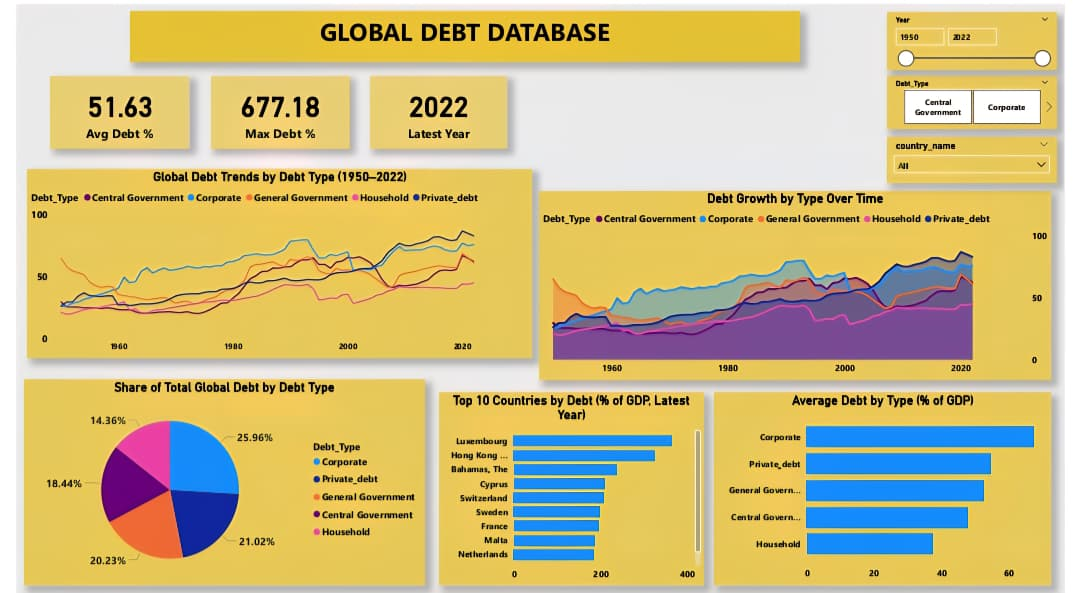

What the dashboard file says about the page in this screenshot:
{"tool":"powerbi","page":{"name":"Page 1","canvas":[1600,900],"ordinal":0},"visuals":[{"type":"lineChart","title":"Global Debt Trends by Debt Type (1950–2022)","fields":{"Category":["Global Debt.Year"],"Y":["Avg(Global Debt.Debt_Percentage)"],"Series":["Global Debt.Debt_Type"]},"box":[18.3,252.4,770.1,287.2],"z":0},{"type":"barChart","title":"Average Debt by Type (% of GDP)","fields":{"Category":["Global Debt.Debt_Type"],"Y":["Avg(Global Debt.Debt_Percentage)"]},"box":[1066.5,592.7,514,294.5],"z":1000},{"type":"barChart","title":"Top 10 Countries by Debt (% of GDP, Latest Year)","fields":{"Category":["Global Debt.country_name "],"Y":["Global Debt.Latest Avg Debt %"]},"box":[645.7,592.7,404.3,294.5],"z":2000},{"type":"areaChart","title":"Debt Growth by Type Over Time","fields":{"Category":["Global Debt.Year"],"Y":["Avg(Global Debt.Debt_Percentage)"],"Series":["Global Debt.Debt_Type"]},"box":[799.4,285.4,781.1,287.2],"z":3000},{"type":"textbox","box":[173.8,11,1022.6,76.8],"z":4000},{"type":"pieChart","title":"Share of Total Global Debt by Debt Type","fields":{"Category":["Global Debt.Debt_Type"],"Y":["Avg(Global Debt.Debt_Percentage)"]},"box":[12.8,572.6,611,314.6],"z":5000},{"type":"card","fields":{"Values":["Global Debt.Avg Debt %"]},"box":[53,109.8,212.2,109.8],"z":6000},{"type":"card","fields":{"Values":["Global Debt.Max Debt %"]},"box":[298.2,109.8,210.4,109.8],"z":7000},{"type":"card","fields":{"Values":["Global Debt.Latest Year"]},"box":[541.5,109.8,208.5,109.8],"z":8000},{"type":"slicer","fields":{"Values":["Global Debt.Year"]},"box":[1330,13,258,87],"z":9000},{"type":"slicer","fields":{"Values":["Global Debt.Debt_Type"]},"box":[1329.9,109.8,257.9,80.5],"z":10000},{"type":"slicer","fields":{"Values":["Global Debt.country_name "]},"box":[1329.9,203,257.9,69.5],"z":11000}]}

Visuals, with their boxes in screenshot pixels (x1, y1, x2, y2), scaled from the page's 1600x900 canvas onto the 1080x593 screenshot:
"Global Debt Trends by Debt Type (1950–2022)" lineChart: locate(12, 166, 532, 356)
"Average Debt by Type (% of GDP)" barChart: locate(720, 391, 1067, 585)
"Top 10 Countries by Debt (% of GDP, Latest Year)" barChart: locate(436, 391, 709, 585)
"Debt Growth by Type Over Time" areaChart: locate(540, 188, 1067, 377)
textbox: locate(117, 7, 808, 58)
"Share of Total Global Debt by Debt Type" pieChart: locate(9, 377, 421, 585)
card - Global Debt.Avg Debt %: locate(36, 72, 179, 145)
card - Global Debt.Max Debt %: locate(201, 72, 343, 145)
card - Global Debt.Latest Year: locate(366, 72, 506, 145)
slicer - Global Debt.Year: locate(898, 9, 1072, 66)
slicer - Global Debt.Debt_Type: locate(898, 72, 1072, 125)
slicer - Global Debt.country_name : locate(898, 134, 1072, 180)
